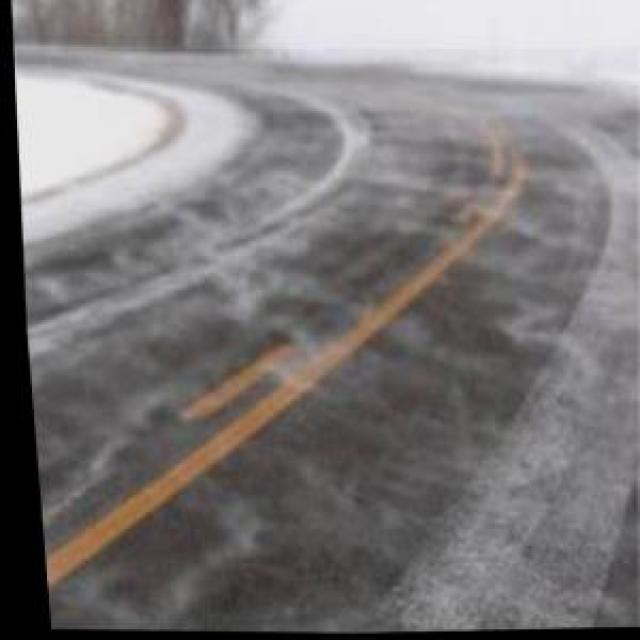ice-road: (18, 51, 640, 634)
